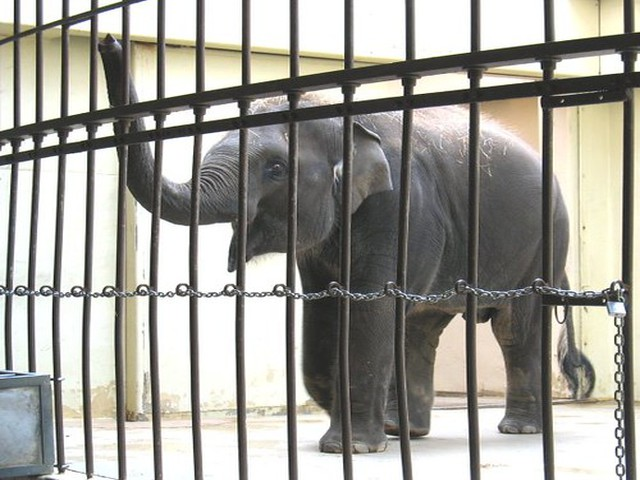Elephant: (99, 29, 596, 453)
